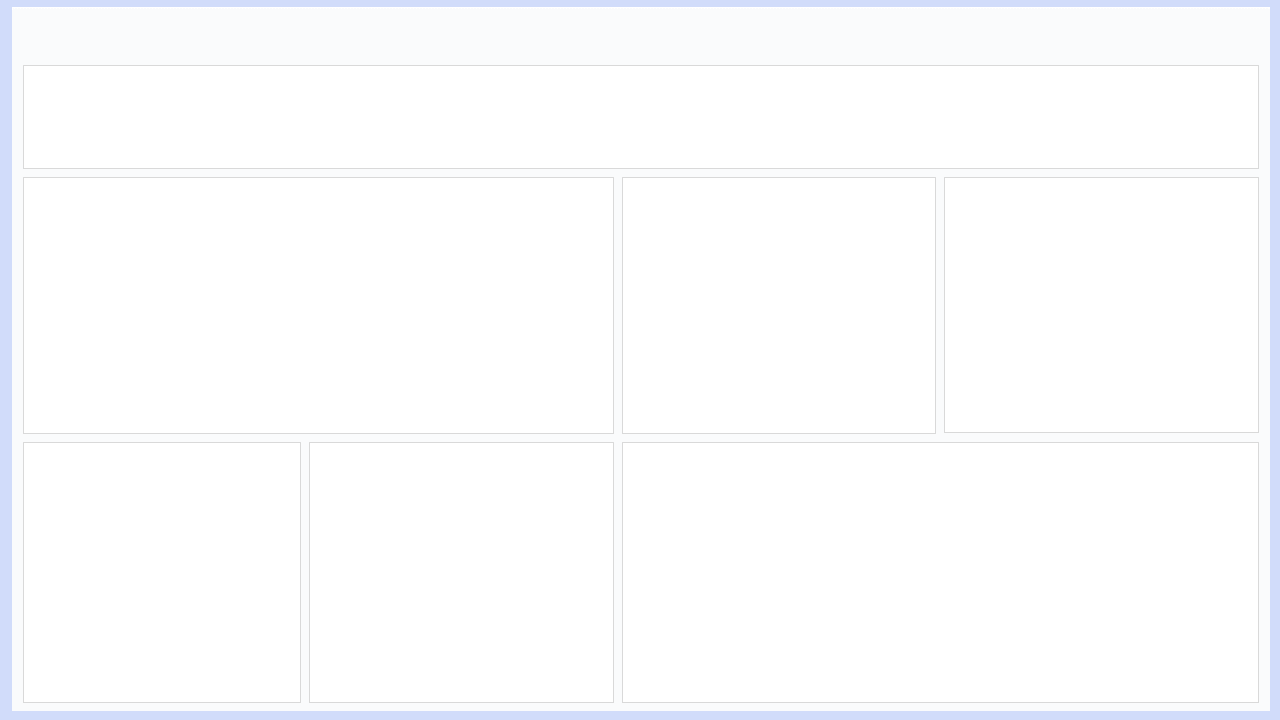

This screenshot's page, from the dashboard's own definition file:
{"tool":"powerbi","page":{"name":"Overview","canvas":[1280,720],"ordinal":0},"visuals":[{"type":"advancedSlicerVisual","fields":{"Values":["Calendar.Year"]},"box":[531.4,7.2,325.4,60.5],"z":0},{"type":"cardVisual","fields":{"Data":["All Measures.Revenue","All Measures.Cost","All Measures.Profit","All Measures.Avg Conversion Rate","All Measures.Views"]},"box":[24.5,64.8,1228.3,106.6],"z":1000},{"type":"lineChart","title":"Revenue  by Month","fields":{"Category":["Calendar.Month"],"Y":["All Measures.Revenue","All Measures.Revenue PM"]},"box":[27.4,180,584.6,249.1],"z":2000},{"type":"clusteredBarChart","title":"Revenue By Lead Source","fields":{"Y":["All Measures.Rev % Of Total","All Measures.Base Zero","All Measures.Whole"],"Category":["dimLeadSource.Lead Source"]},"box":[625,180,306.7,247.7],"z":3000},{"type":"donutChart","fields":{"Y":["All Measures.Revenue"],"Category":["dimChannel.Sales Channel"]},"box":[949,174.2,306.7,256.3],"z":4000},{"type":"clusteredBarChart","fields":{"Category":["dimMarketingCampaign.Marketing Campaign"],"Y":["All Measures.Revenue"]},"box":[24.5,445,276.5,257.8],"z":5000},{"type":"clusteredBarChart","title":"Revenue  by Region","fields":{"Y":["All Measures.Blank 1","All Measures.Revenue","All Measures.Blank 2"],"Category":["dimCountry.Region"]},"box":[309.6,445,302.4,257.8],"z":6000},{"type":"tableEx","title":"Revenue & Session by Country","fields":{"Values":["dimCountry.Flag","dimCountry.Country","All Measures.Sessions","All Measures.Revenue","SparklineData(All Measures.Revenue_[Calendar.MonthNum])"]},"box":[625,445,364.3,257.8],"z":7000},{"type":"shapeMap","fields":{"Value":["All Measures.Revenue"],"Category":["dimCountry.Country"]},"box":[1002,445,254,258],"z":8000},{"type":"textbox","box":[27.4,7.2,469.4,57.6],"z":9000},{"type":"pageNavigator","box":[868.3,14.4,390.2,46.1],"z":10000},{"type":"aiNarratives","box":[100,100,300,300],"z":10001}]}

Visuals, with their boxes in screenshot pixels (x1, y1, x2, y2), scaled from the page's 1280x720 canvas onto the 1280x720 screenshot:
advancedSlicerVisual - Calendar.Year: (531,7,857,68)
cardVisual - All Measures.Revenue x All Measures.Cost: (24,65,1253,171)
"Revenue  by Month" lineChart: (27,180,612,429)
"Revenue By Lead Source" clusteredBarChart: (625,180,932,428)
donutChart - All Measures.Revenue x dimChannel.Sales Channel: (949,174,1256,430)
clusteredBarChart - dimMarketingCampaign.Marketing Campaign x All Measures.Revenue: (24,445,301,703)
"Revenue  by Region" clusteredBarChart: (310,445,612,703)
"Revenue & Session by Country" tableEx: (625,445,989,703)
shapeMap - All Measures.Revenue x dimCountry.Country: (1002,445,1256,703)
textbox: (27,7,497,65)
pageNavigator: (868,14,1258,60)
aiNarratives: (100,100,400,400)
